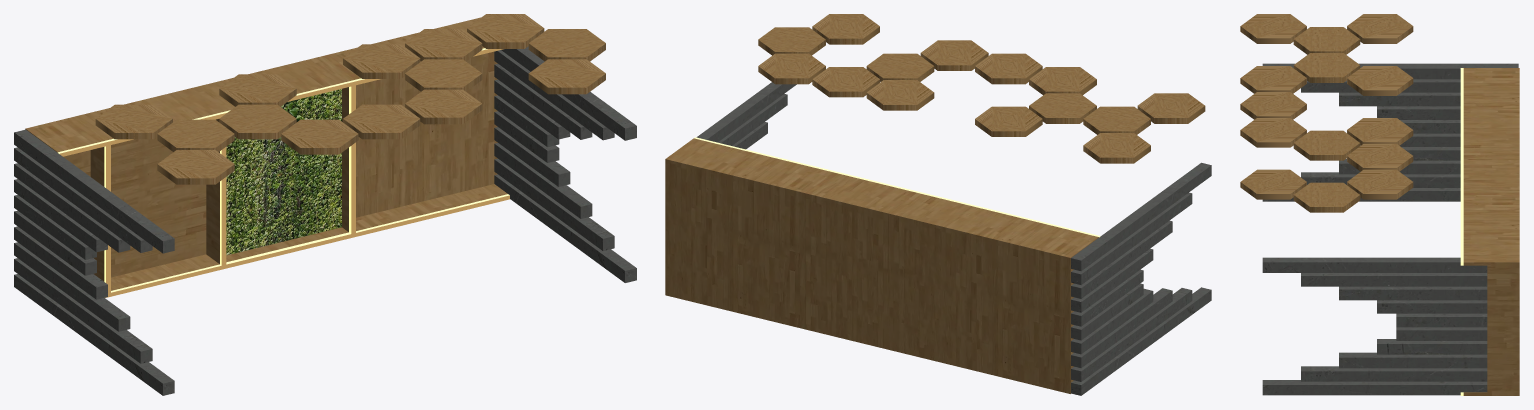
Rendered from wood_L2.glb.
3 views of the same model, side by side, from view 1: azimuth 30°, elevation 25°; view 2: azimuth 150°, elevation 25°; view 3: azimuth 270°, elevation 25° (orthographic). The views are drawn at different scales.
Visible parts, largest first — view 1: _l2_blocks, _l2_lights, _l2_block.001, _l2_block, _l2_vines; view 2: _l2_blocks, _l2_lights, _l2_block.001, _l2_block; view 3: _l2_lights, _l2_block, _l2_blocks, _l2_block.001.
Boxes of the visible parts, box(x1,y1,x2,y2) form: _l2_blocks: box(25, 17, 509, 297); _l2_lights: box(95, 14, 605, 184); _l2_block.001: box(14, 129, 174, 395); _l2_block: box(494, 46, 636, 282); _l2_vines: box(226, 89, 341, 255); _l2_blocks: box(665, 137, 1100, 393); _l2_lights: box(758, 14, 1205, 163); _l2_block.001: box(1071, 162, 1211, 395); _l2_block: box(696, 82, 796, 149); _l2_lights: box(1240, 14, 1413, 212); _l2_block: box(1262, 257, 1487, 395); _l2_blocks: box(1460, 68, 1519, 395); _l2_block.001: box(1262, 63, 1518, 201).
Bounding box in the file's own units: 14.41 × 6.5 × 8.54.
Materials: 8 (5 with a texture image).
